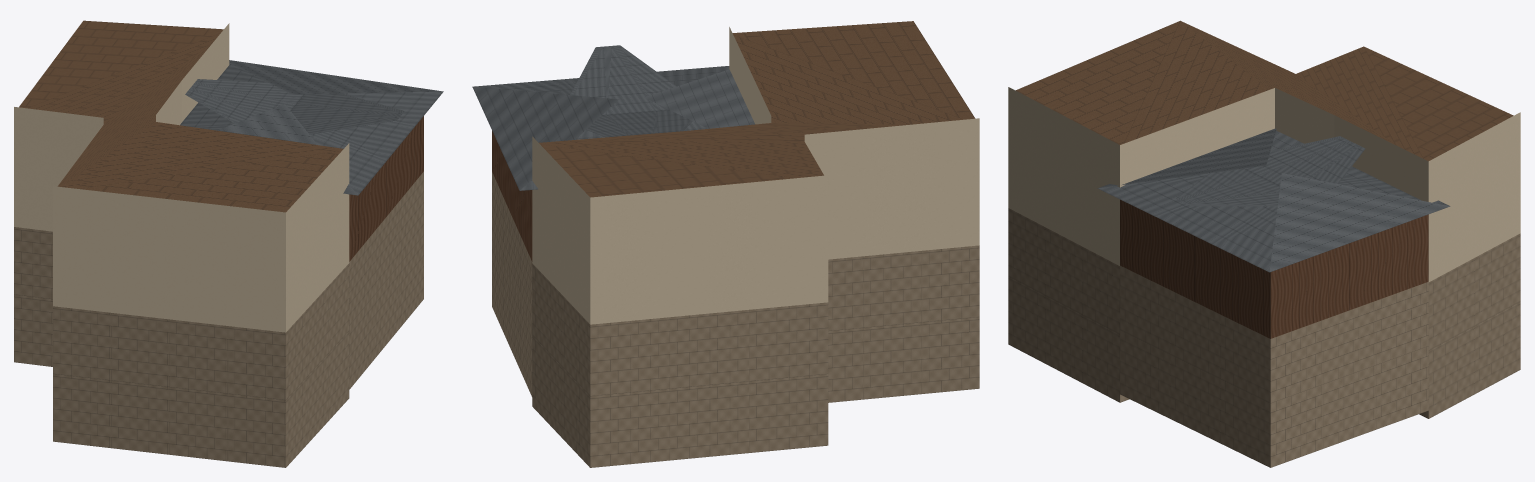
Rendered from bld_c42_32_266.gltf.
The picture shows the model from 3 angles, left to right: view 1: azimuth 30°, elevation 25°; view 2: azimuth 150°, elevation 25°; view 3: azimuth 270°, elevation 25°; orthographic projection. The views are drawn at different scales.
Parts seen in each view (by area): view 1: bld_c42_32_266; view 2: bld_c42_32_266; view 3: bld_c42_32_266.
Boxes of the visible parts, x1,y1,x2,y2 form: bld_c42_32_266: [14, 20, 443, 467]; bld_c42_32_266: [472, 21, 979, 467]; bld_c42_32_266: [1008, 20, 1520, 467].
Bounding box in the file's own units: 16.36 × 9.18 × 16.54.
6 materials, 6 textured.
